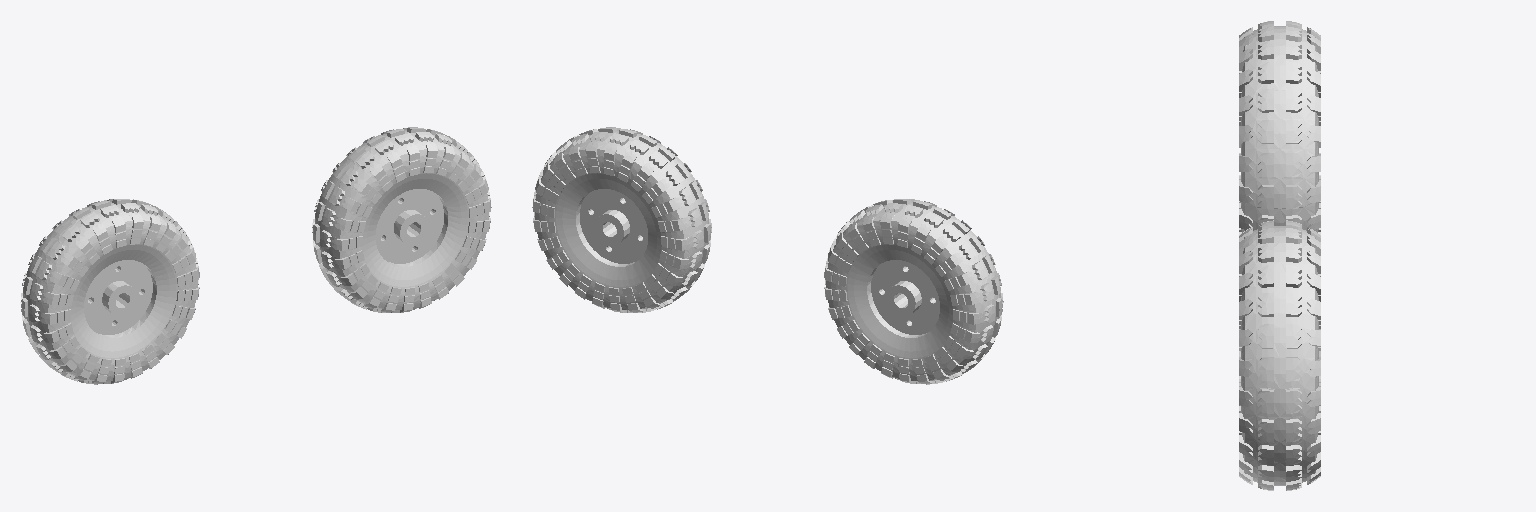
URDF robot description (robot1):
<?xml version="1.0" encoding="utf-8"?>
<!-- This URDF was automatically created by SolidWorks to URDF Exporter! Originally created by [author] ([email redacted]) 
     Commit Version: 1.6.0-4-g7f85cfe  Build Version: 1.6.7995.38578
     For more information, please see http://wiki.ros.org/sw_urdf_exporter -->
<robot
  name="robot1">
  <link
    name="base_link">
    <inertial>
      <origin
        xyz="-5.78342767377806E-17 3.20113853670739E-17 0.06"
        rpy="0 0 0" />
      <mass
        value="21.6942477796077" />
      <inertia
        ixx="0.191279933343014"
        ixy="7.43271411215649E-17"
        ixz="-2.98049293693505E-18"
        iyy="0.677694623573289"
        iyz="3.1128339403067E-35"
        izz="0.817129844527322" />
    </inertial>
    <visual>
      <origin
        xyz="0 0 0"
        rpy="0 0 0" />
      <geometry>
        <mesh
          filename="package://robot1/meshes/base_link.STL" />
      </geometry>
      <material
        name="">
        <color
          rgba="0.792156862745098 0.819607843137255 0.933333333333333 1" />
      </material>
    </visual>
    <collision>
      <origin
        xyz="0 0 0"
        rpy="0 0 0" />
      <geometry>
        <mesh
          filename="package://robot1/meshes/base_link.STL" />
      </geometry>
    </collision>
  </link>
  <link
    name="front_left_wheel">
    <inertial>
      <origin
        xyz="0.200000000000035 0.194999999998909 0.0600000000000475"
        rpy="0 0 0" />
      <mass
        value="2.11669573162386" />
      <inertia
        ixx="0.00765610745123127"
        ixy="-8.66966066338475E-16"
        ixz="1.20324171323343E-13"
        iyy="0.0140448819805897"
        iyz="-2.71646475761896E-15"
        izz="0.00765610745142051" />
    </inertial>
    <visual>
      <origin
        xyz="0 0 0"
        rpy="0 0 0" />
      <geometry>
        <mesh
          filename="package://robot1/meshes/front_left_wheel.STL" />
      </geometry>
      <material
        name="">
        <color
          rgba="0.898039215686275 0.898039215686275 0.898039215686275 1" />
      </material>
    </visual>
    <collision>
      <origin
        xyz="0 0 0"
        rpy="0 0 0" />
      <geometry>
        <mesh
          filename="package://robot1/meshes/front_left_wheel.STL" />
      </geometry>
    </collision>
  </link>
  <joint
    name="front_left_joint"
    type="continuous">
    <origin
      xyz="0 0 0"
      rpy="0 0 0" />
    <parent
      link="base_link" />
    <child
      link="front_left_wheel" />
    <axis
      xyz="0 1 0" />
  </joint>
  <link
    name="front_right_wheel">
    <inertial>
      <origin
        xyz="0.200000000000023 -0.194999999998911 0.0599999999999489"
        rpy="0 0 0" />
      <mass
        value="2.11669573162387" />
      <inertia
        ixx="0.00765610745119546"
        ixy="2.49845748499387E-16"
        ixz="-8.03577728719601E-14"
        iyy="0.0140448819805898"
        iyz="-2.46054607369482E-15"
        izz="0.00765610745145606" />
    </inertial>
    <visual>
      <origin
        xyz="0 0 0"
        rpy="0 0 0" />
      <geometry>
        <mesh
          filename="package://robot1/meshes/front_right_wheel.STL" />
      </geometry>
      <material
        name="">
        <color
          rgba="0.898039215686275 0.898039215686275 0.898039215686275 1" />
      </material>
    </visual>
    <collision>
      <origin
        xyz="0 0 0"
        rpy="0 0 0" />
      <geometry>
        <mesh
          filename="package://robot1/meshes/front_right_wheel.STL" />
      </geometry>
    </collision>
  </link>
  <joint
    name="front_right_joint"
    type="continuous">
    <origin
      xyz="0 0 0"
      rpy="0 0 0" />
    <parent
      link="base_link" />
    <child
      link="front_right_wheel" />
    <axis
      xyz="0 -1 0" />
  </joint>
  <link
    name="rear_left_wheel">
    <inertial>
      <origin
        xyz="-0.200000000000055 0.194999999998913 0.0599999999999808"
        rpy="0 0 0" />
      <mass
        value="2.11669573162387" />
      <inertia
        ixx="0.00765610745141972"
        ixy="1.7353923965969E-15"
        ixz="1.20717980562506E-13"
        iyy="0.0140448819805897"
        iyz="1.22107409560405E-15"
        izz="0.0076561074512315" />
    </inertial>
    <visual>
      <origin
        xyz="0 0 0"
        rpy="0 0 0" />
      <geometry>
        <mesh
          filename="package://robot1/meshes/rear_left_wheel.STL" />
      </geometry>
      <material
        name="">
        <color
          rgba="0.898039215686275 0.898039215686275 0.898039215686275 1" />
      </material>
    </visual>
    <collision>
      <origin
        xyz="0 0 0"
        rpy="0 0 0" />
      <geometry>
        <mesh
          filename="package://robot1/meshes/rear_left_wheel.STL" />
      </geometry>
    </collision>
  </link>
  <joint
    name="rear_left_joint"
    type="continuous">
    <origin
      xyz="0 0 0"
      rpy="0 0 0" />
    <parent
      link="base_link" />
    <child
      link="rear_left_wheel" />
    <axis
      xyz="0 1 0" />
  </joint>
  <link
    name="rear_right_wheel">
    <inertial>
      <origin
        xyz="-0.200000000000007 -0.194999999998909 0.0600000000000545"
        rpy="0 0 0" />
      <mass
        value="2.11669573162388" />
      <inertia
        ixx="0.0076561074511742"
        ixy="7.12118175588418E-16"
        ixz="1.9997330725558E-14"
        iyy="0.0140448819805899"
        iyz="2.84765902463033E-15"
        izz="0.00765610745147777" />
    </inertial>
    <visual>
      <origin
        xyz="0 0 0"
        rpy="0 0 0" />
      <geometry>
        <mesh
          filename="package://robot1/meshes/rear_right_wheel.STL" />
      </geometry>
      <material
        name="">
        <color
          rgba="0.898039215686275 0.898039215686275 0.898039215686275 1" />
      </material>
    </visual>
    <collision>
      <origin
        xyz="0 0 0"
        rpy="0 0 0" />
      <geometry>
        <mesh
          filename="package://robot1/meshes/rear_right_wheel.STL" />
      </geometry>
    </collision>
  </link>
  <joint
    name="rear_right_joint"
    type="continuous">
    <origin
      xyz="0 0 0"
      rpy="0 0 0" />
    <parent
      link="base_link" />
    <child
      link="rear_right_wheel" />
    <axis
      xyz="0 -1 0" />
    <limit
      effort="30"
      velocity="30" />
  </joint>
</robot>

--- What the picture shows (computed from the rendered views, not written in the file) ---
3 views of the same robot in one strip: view 1: azimuth 30°, elevation 25°; view 2: azimuth 150°, elevation 25°; view 3: azimuth 270°, elevation 25° (orthographic).
Model robot1 with 5 links and 4 joints (4 continuous), rooted at base_link, posed all joints at 0.
Visible links, largest first — view 1: front_right_wheel, rear_right_wheel; view 2: front_right_wheel, rear_right_wheel; view 3: front_right_wheel, rear_right_wheel.
Boxes of the visible links, x1=… form: front_right_wheel: x1=312, y1=127, x2=491, y2=312; rear_right_wheel: x1=20, y1=199, x2=199, y2=384; front_right_wheel: x1=532, y1=127, x2=711, y2=312; rear_right_wheel: x1=824, y1=199, x2=1003, y2=384; front_right_wheel: x1=1239, y1=220, x2=1320, y2=490; rear_right_wheel: x1=1239, y1=21, x2=1320, y2=234.
Bounding box of the posed robot: 0.6295 × 0.069 × 0.2295 m (x, y, z).
Meshes: 5 distinct files referenced, 2 mesh visuals loaded (2 binary STL); not drawn: 3 (reference not matched to a file when rendering).